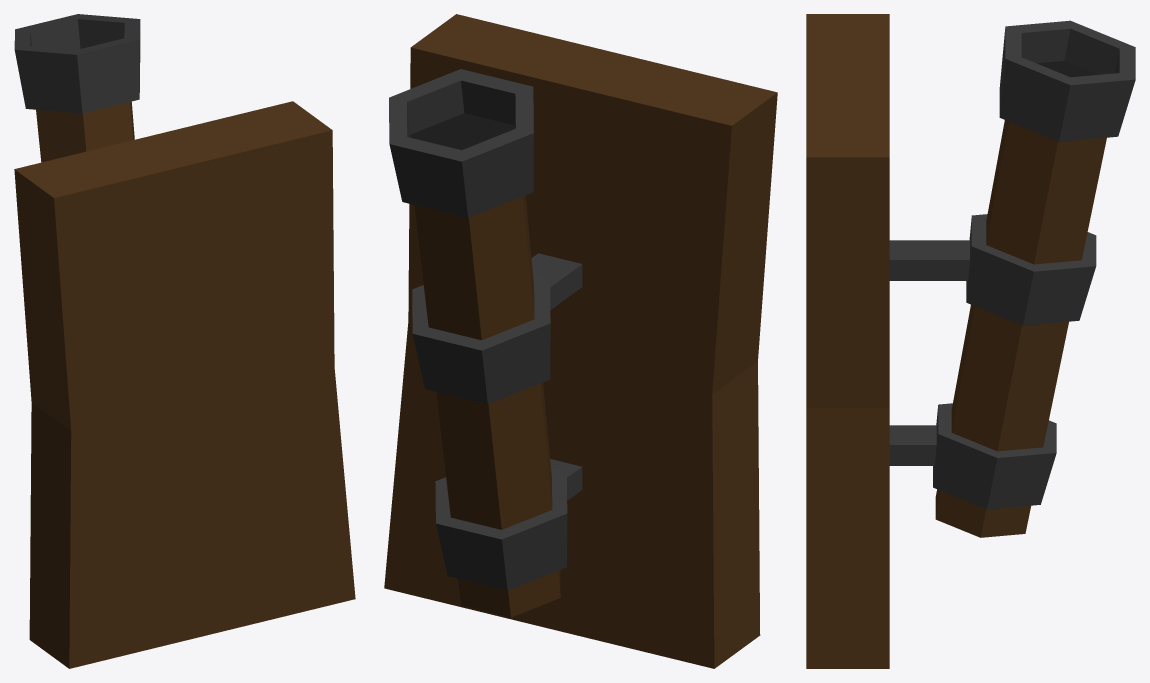
Rendered from Torch.fbx.
The picture shows the model from 3 angles, left to right: view 1: azimuth 30°, elevation 25°; view 2: azimuth 150°, elevation 25°; view 3: azimuth 270°, elevation 25°; orthographic projection. The views are drawn at different scales.
Parts seen in each view (by area): view 1: Cylinder.002; view 2: Cylinder.002; view 3: Cylinder.002.
Boxes of the visible parts, x1,y1,x2,y2 form: Cylinder.002: (14, 14, 355, 668); Cylinder.002: (384, 14, 777, 668); Cylinder.002: (806, 14, 1135, 668).
Size of the model in its own units: 0.79 by 0.7097 by 1.3.
